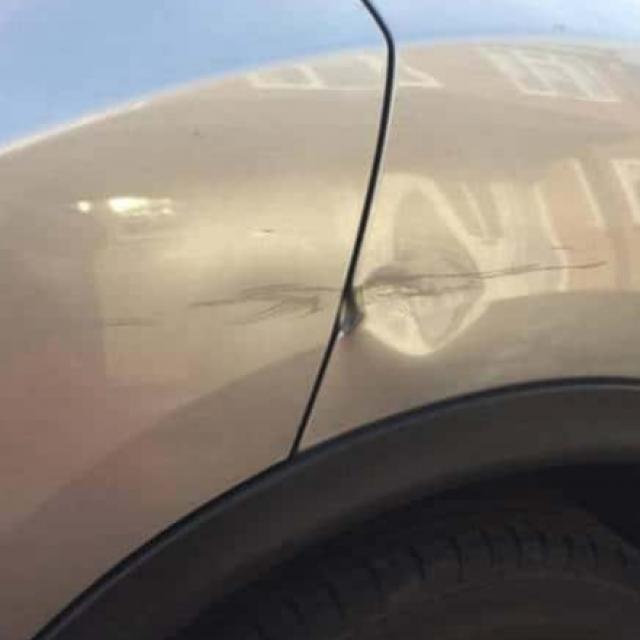dents: (337, 191, 503, 364)
